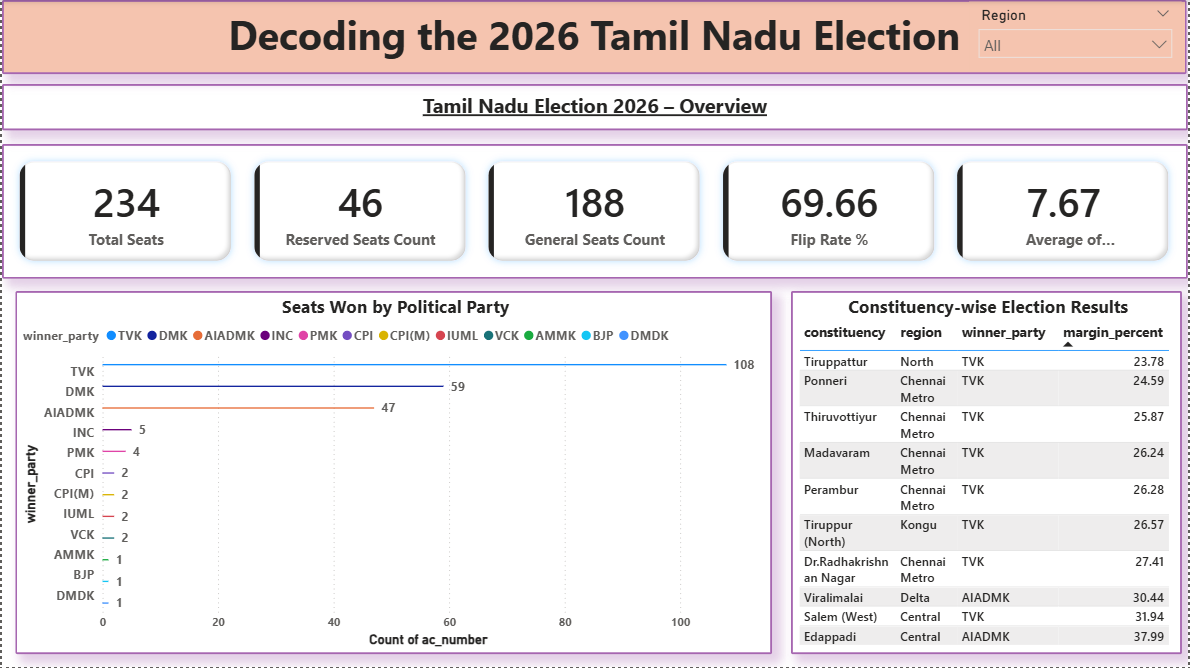

Layout of this report page (visuals, bound fields, positions):
{"tool":"powerbi","page":{"name":"Page 1","canvas":[1280,720],"ordinal":0},"visuals":[{"type":"cardVisual","fields":{"Data":["constituency_master.Total Seats","constituency_master.Reserved Seats Count","constituency_master.General Seats Count","constituency_master.Flip Rate %","Avg(merged_analysis.margin_percent_2026)"]},"box":[0,155,1280,145],"z":1000},{"type":"clusteredBarChart","title":"Seats Won by Political Party","fields":{"Y":["CountNonNull(winners_2026.ac_number)"],"Category":["winners_2026.winner_party"],"Series":["winners_2026.winner_party"]},"box":[15,313.3,816.7,391.7],"z":2000},{"type":"tableEx","title":"Constituency-wise Election Results","fields":{"Values":["winners_2026.constituency","winners_2026.region","winners_2026.winner_party","winners_2026.margin_percent"]},"box":[851.7,313.3,421.7,391.7],"z":3000},{"type":"textbox","box":[0,90,1280,50],"z":4000},{"type":"textbox","box":[0,0,1278.3,80],"z":5000},{"type":"slicer","fields":{"Values":["constituency_master.region"]},"box":[1045,1.7,228.3,75],"z":5500}]}

Visuals, with their boxes in screenshot pixels (x1, y1, x2, y2), scaled from the page's 1280x720 canvas onto the 1190x668 screenshot:
cardVisual - constituency_master.Total Seats x constituency_master.Reserved Seats Count: bbox=(0, 144, 1189, 278)
"Seats Won by Political Party" clusteredBarChart: bbox=(14, 291, 773, 654)
"Constituency-wise Election Results" tableEx: bbox=(792, 291, 1184, 654)
textbox: bbox=(0, 84, 1189, 130)
textbox: bbox=(0, 0, 1188, 74)
slicer - constituency_master.region: bbox=(972, 2, 1184, 71)
